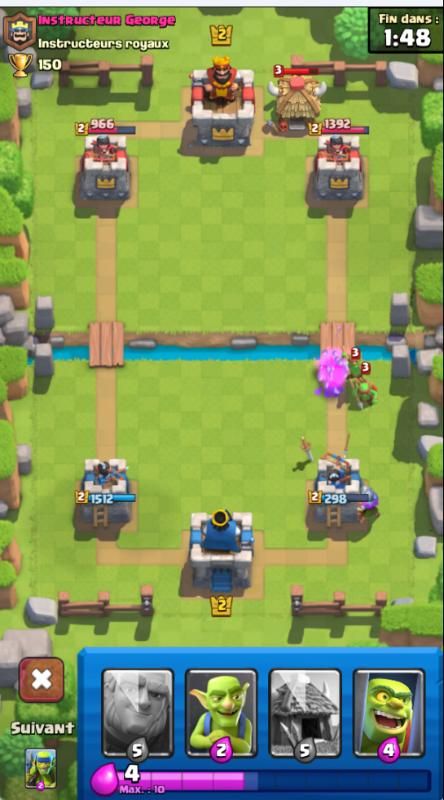gobelin_lances: (351, 376, 379, 418), (340, 350, 368, 385)
mousquetaire: (351, 481, 384, 530)
